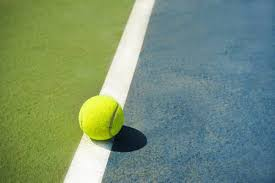tennis_ball: (77, 94, 125, 142)
